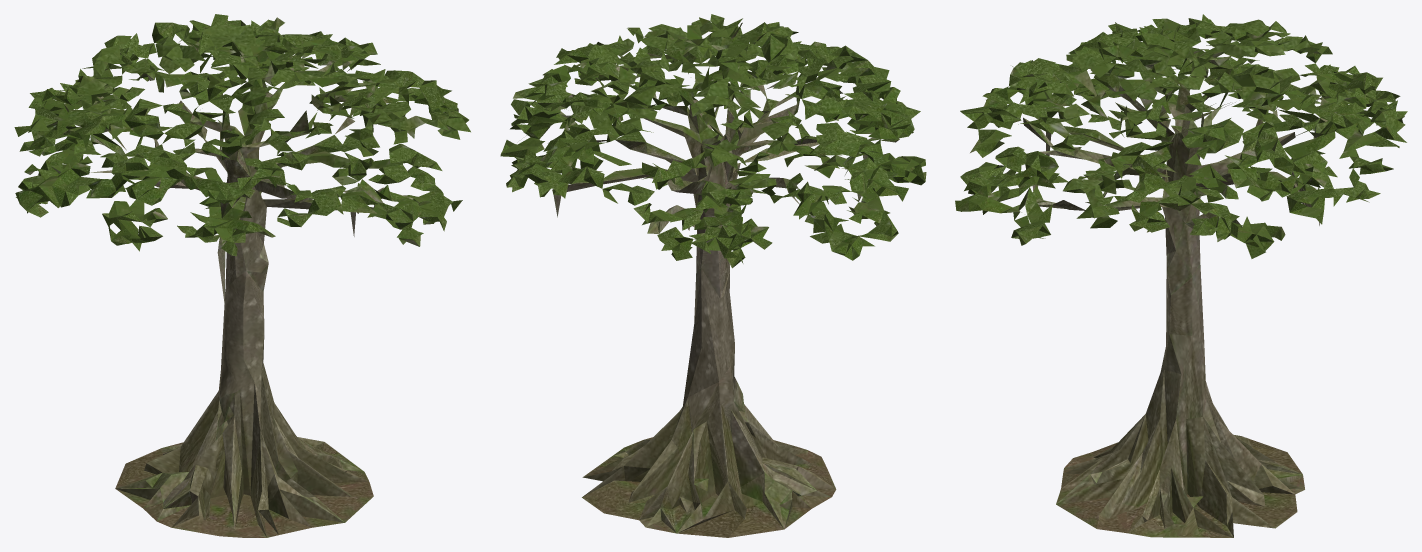
Rendered from jungle_tree.glb.
3 views of the same model, side by side, from view 1: azimuth 30°, elevation 25°; view 2: azimuth 150°, elevation 25°; view 3: azimuth 270°, elevation 25° (orthographic).
Visible parts, largest first — view 1: Mesh_0; view 2: Mesh_0; view 3: Mesh_0.
Part boxes in pixels (x1,y1,x2,y2): Mesh_0: (14,14,470,537); Mesh_0: (500,14,926,537); Mesh_0: (955,14,1407,537).
Size of the model in its own units: 1.79 by 1.9 by 1.75.
Materials: 1 (1 with a texture image).
